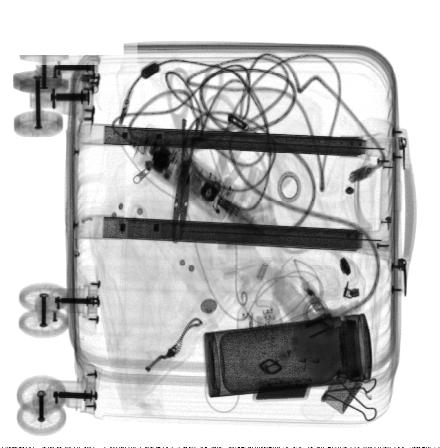Powerbank: (251, 377, 315, 401)
Scissors: (169, 63, 225, 247)
